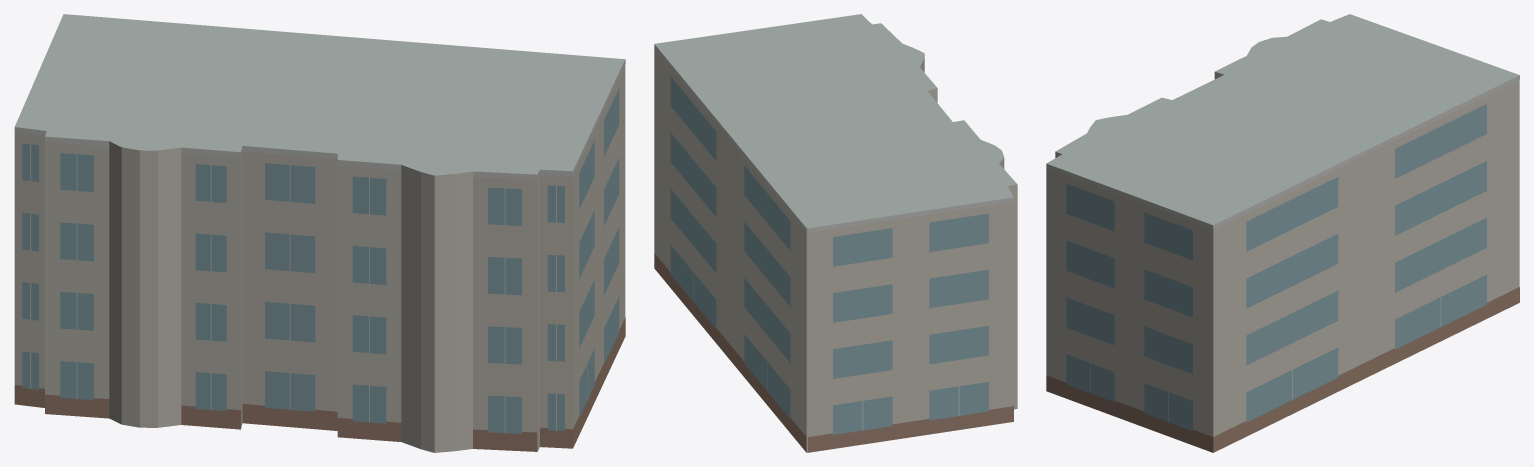
The model's file is survey-upis-32568504.glb.
The picture shows the model from 3 angles, left to right: view 1: azimuth 30°, elevation 25°; view 2: azimuth 150°, elevation 25°; view 3: azimuth 270°, elevation 25°; orthographic projection. The views are drawn at different scales.
Parts seen in each view (by area): view 1: survey-upis-32568504.tmp; view 2: survey-upis-32568504.tmp; view 3: survey-upis-32568504.tmp.
Boxes of the visible parts, box(x1,y1,x2,y2) form: survey-upis-32568504.tmp: box(14, 14, 625, 452); survey-upis-32568504.tmp: box(654, 14, 1017, 452); survey-upis-32568504.tmp: box(1046, 14, 1519, 452).
Bounding box in the file's own units: 24.49 × 12.3 × 23.2.
